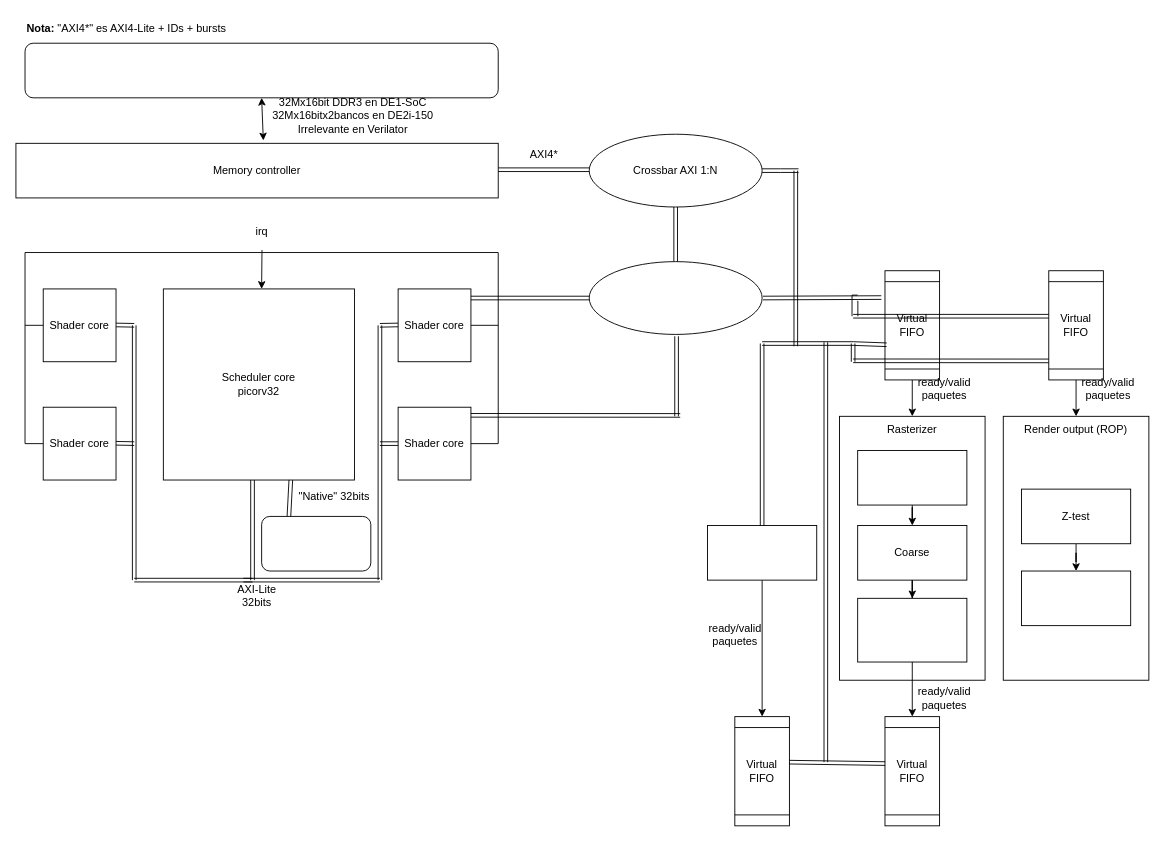
Image size: 1165x842. Some labels were removed from this diagram. Each missing label, with the centre of its shape:
"Blending" goes at pixel 1076 598.
"Crossbar AXI M:N" goes at pixel 675 297.
"Fine" goes at pixel 912 629.
"Graphics DRAM Al menos 64MiB" goes at pixel 261 70.
"Input assembly" goes at pixel 762 552.
"Scheduler SRAM" goes at pixel 316 543.
"Triangle setup" goes at pixel 912 477.
